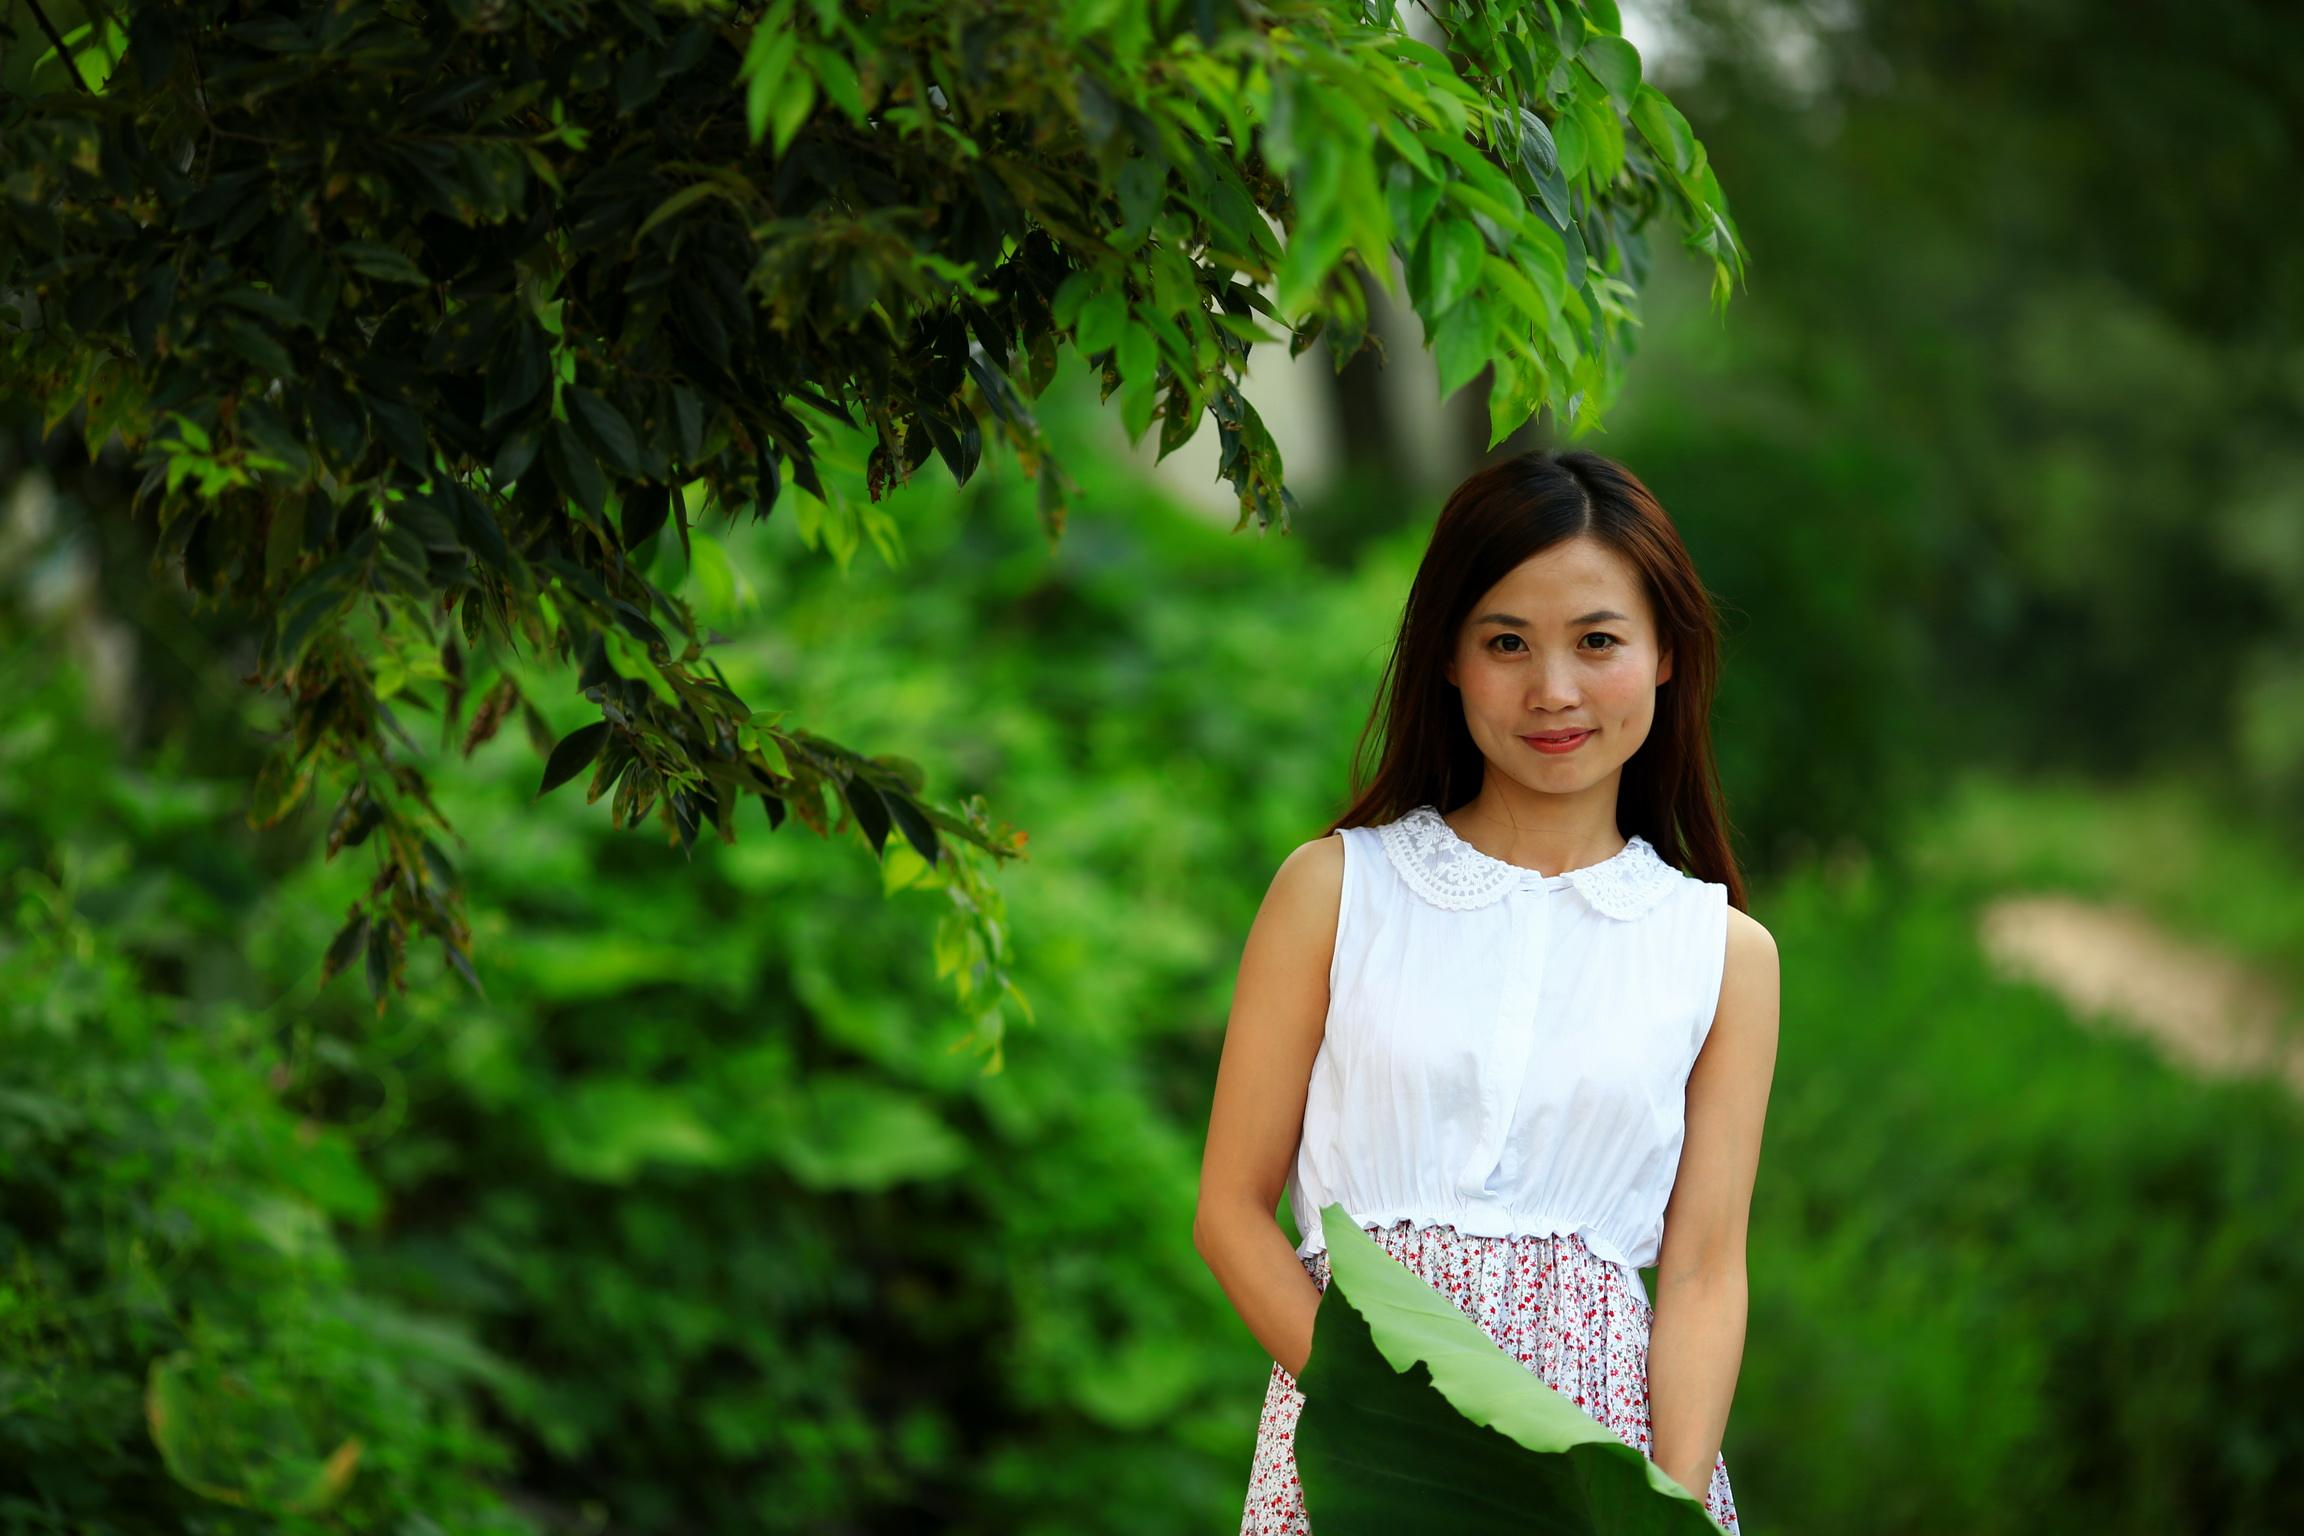person: (980, 317, 1799, 1386)
